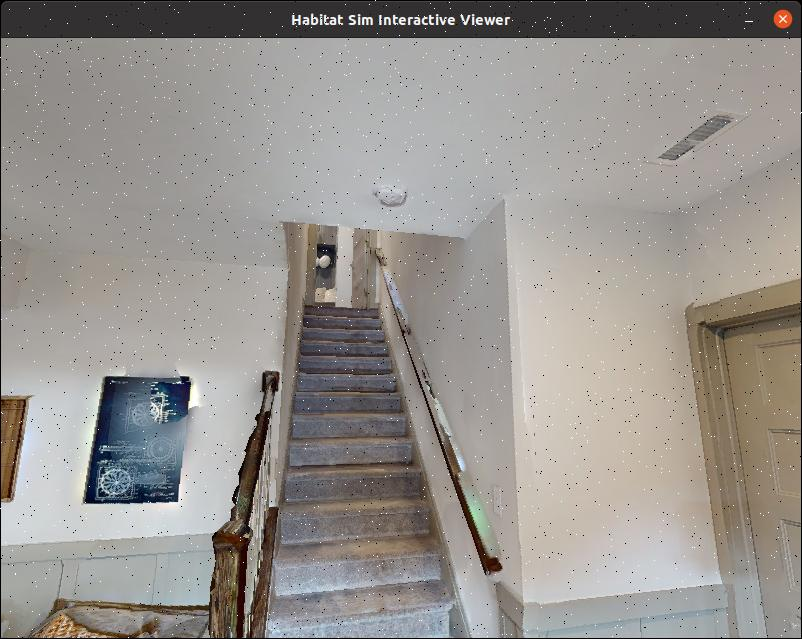stairs: (197, 203, 520, 639)
